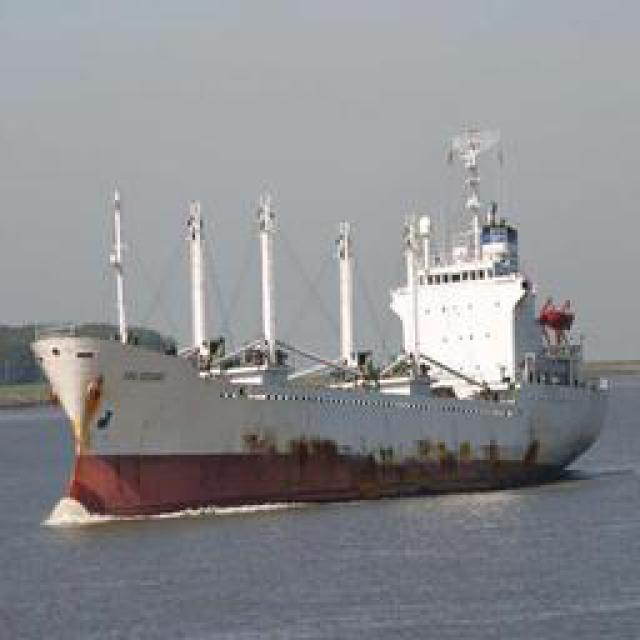Ship: (33, 140, 618, 515)
